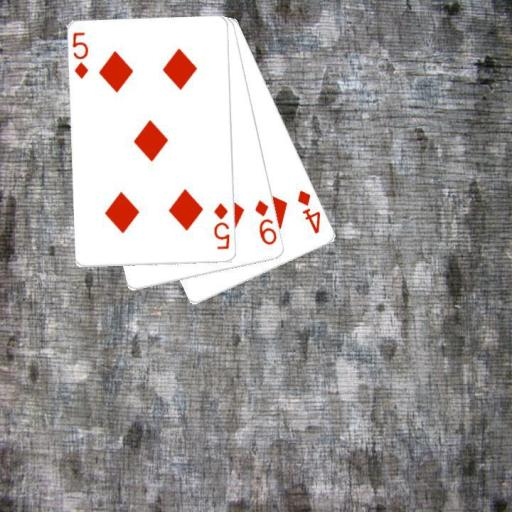4D: (294, 187, 323, 235)
5D: (210, 201, 232, 251), (70, 29, 90, 81)
9D: (252, 197, 278, 247)
